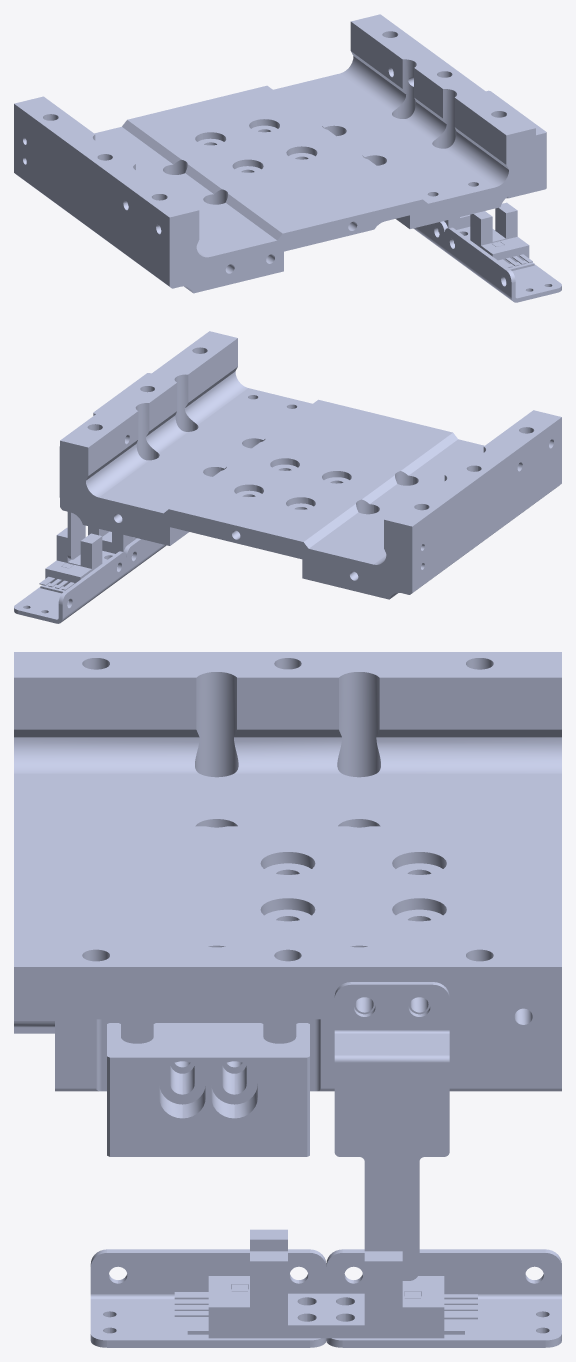
Rendered from MTA-3.glb.
3 views of the same model, one above another, from view 1: azimuth 30°, elevation 25°; view 2: azimuth 150°, elevation 25°; view 3: azimuth 270°, elevation 25° (orthographic). The views are drawn at different scales.
Parts seen in each view (by area): view 1: 134X-12-MTA3滑动座V2.0_node, 134X-30-1开关安装支架V1.0_node_1, SH-SL674开关_node, 134X-101-5读数头连接块V1.0_node, 134X-30-1开关安装支架V1.0_node, SH-SL674开关_node_1; view 2: 134X-12-MTA3滑动座V2.0_node, 134X-30-1开关安装支架V1.0_node, SH-SL674开关_node_1, 134X-30-1开关安装支架V1.0_node_1, SH-SL674开关_node, 134X-31-1 外置遮挡钣金V1.0_node; view 3: 134X-12-MTA3滑动座V2.0_node, 134X-101-5读数头连接块V1.0_node, 134X-31-1 外置遮挡钣金V1.0_node, 134X-30-1开关安装支架V1.0_node_1, 134X-30-1开关安装支架V1.0_node, SH-SL674开关_node, SH-SL674开关_node_1.
Part boxes in pixels (x1,y1,x2,y2): 134X-12-MTA3滑动座V2.0_node: (14, 14, 535, 293); 134X-30-1开关安装支架V1.0_node_1: (444, 227, 561, 302); SH-SL674开关_node: (467, 202, 534, 270); 134X-101-5读数头连接块V1.0_node: (486, 90, 546, 198); 134X-30-1开关安装支架V1.0_node: (413, 221, 454, 251); SH-SL674开关_node_1: (438, 214, 494, 243); 134X-12-MTA3滑动座V2.0_node: (60, 331, 561, 599); 134X-30-1开关安装支架V1.0_node: (14, 551, 126, 623); SH-SL674开关_node_1: (39, 527, 104, 593); 134X-30-1开关安装支架V1.0_node_1: (117, 538, 166, 574); SH-SL674开关_node: (80, 526, 136, 566); 134X-31-1 外置遮挡钣金V1.0_node: (59, 446, 85, 559); 134X-12-MTA3滑动座V2.0_node: (14, 652, 561, 1091); 134X-101-5读数头连接块V1.0_node: (107, 1023, 309, 1156); 134X-31-1 外置遮挡钣金V1.0_node: (334, 982, 449, 1280); 134X-30-1开关安装支架V1.0_node_1: (90, 1249, 326, 1347); 134X-30-1开关安装支架V1.0_node: (326, 1249, 561, 1347); SH-SL674开关_node: (174, 1229, 326, 1338); SH-SL674开关_node_1: (326, 1251, 477, 1338).
Bounding box in the file's own units: 155 × 67.8 × 100.
